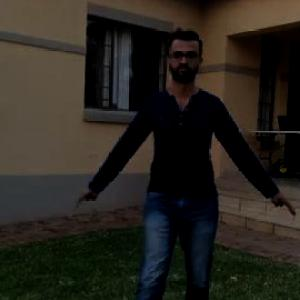land: (94, 49, 254, 299)
